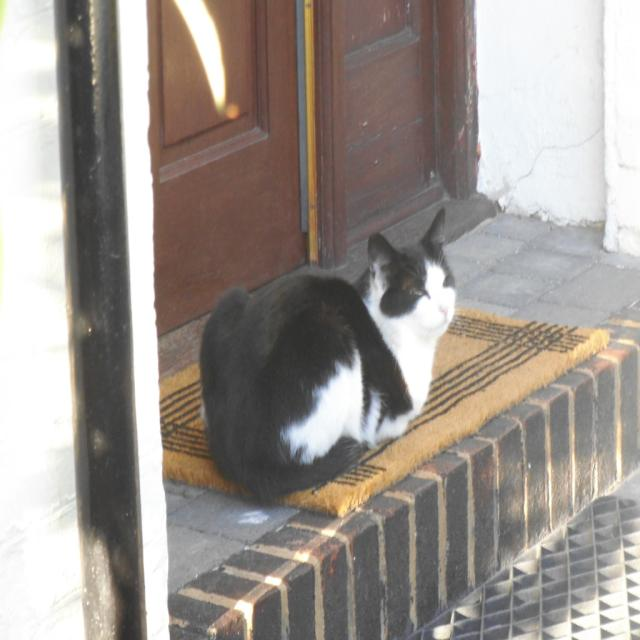Cat: (195, 208, 454, 508)
